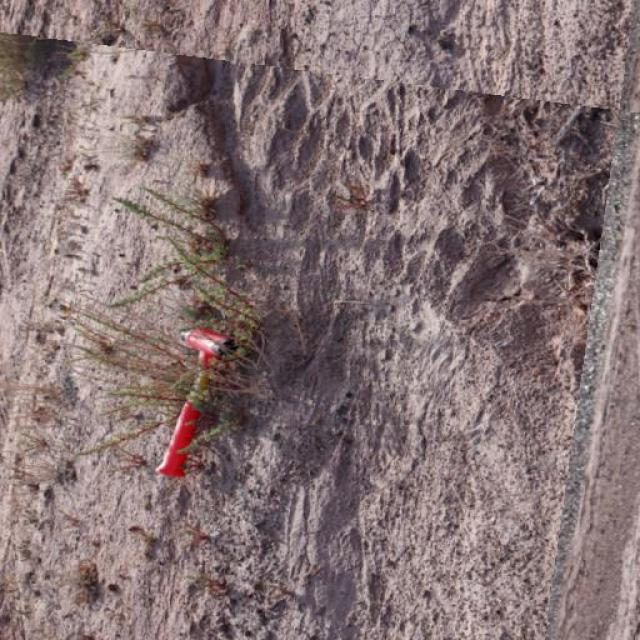mallet: (154, 325, 236, 477)
